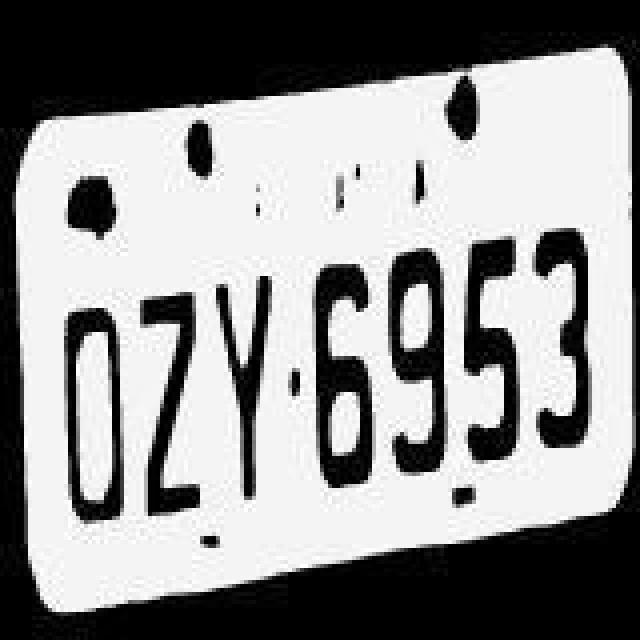3: (522, 214, 598, 474)
5: (448, 218, 528, 486)
6: (304, 254, 376, 514)
9: (384, 240, 448, 496)
O: (54, 288, 138, 552)
Y: (212, 266, 284, 534)
Z: (134, 284, 210, 548)
